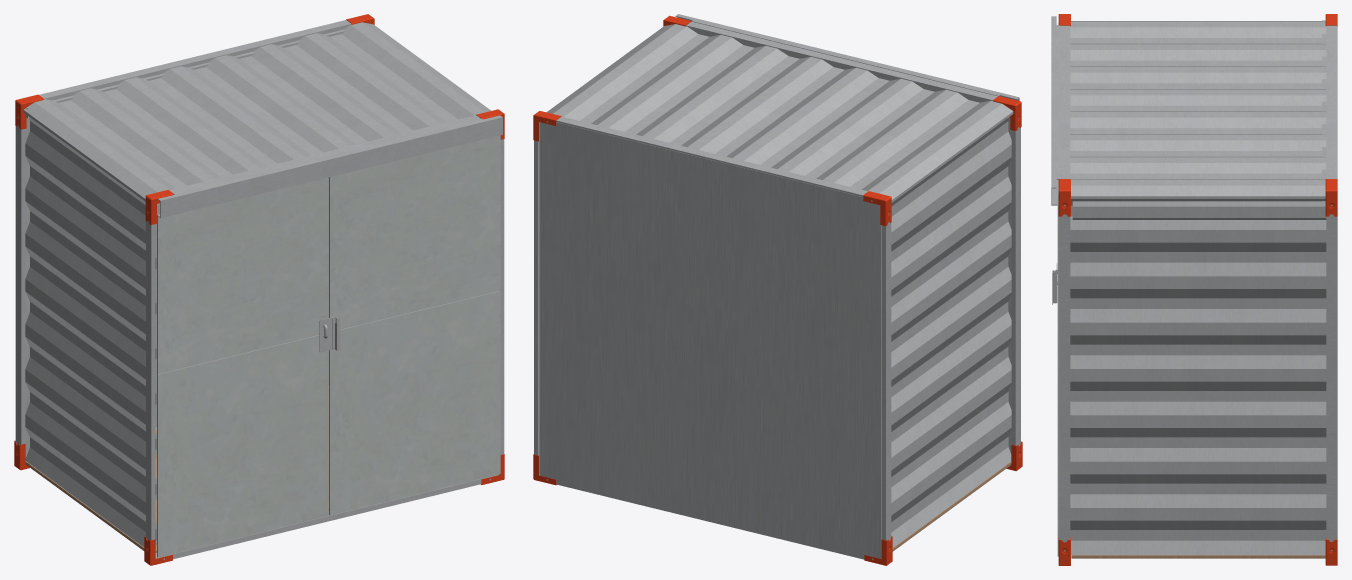
Rendered from 3M_closed.glb.
3 views of the same model, side by side, from view 1: azimuth 30°, elevation 25°; view 2: azimuth 150°, elevation 25°; view 3: azimuth 270°, elevation 25° (orthographic). The views are drawn at different scales.
Visible parts, largest first — view 1: leftSideDoorWing, rightSideDoorWing, roof, leftWall, frontRim, gutter, backRim, Cube.007, floor.001, handle; view 2: Cube.007, roof, leftWall, backRim, frontRim, gutter; view 3: rightWall, roof, frontRim, backRim, topRightMask, gutter, rightSideDoorWing, floor.001, corner, corner.001, Cube.007, Cube.003.
Boxes of the visible parts, x1,y1,x2,y2 form: leftSideDoorWing: (157, 177, 328, 557); rightSideDoorWing: (329, 135, 500, 515); roof: (23, 22, 491, 201); leftWall: (25, 117, 156, 547); frontRim: (146, 115, 504, 559); gutter: (157, 115, 502, 218); backRim: (15, 20, 351, 461); Cube.007: (25, 118, 328, 457); floor.001: (25, 388, 328, 552); handle: (320, 317, 340, 352); Cube.007: (539, 121, 881, 559); roof: (547, 24, 1013, 202); leftWall: (891, 116, 1011, 547); backRim: (534, 116, 891, 559); frontRim: (686, 21, 1020, 463); gutter: (675, 14, 1019, 100); rightWall: (1070, 199, 1326, 554); roof: (1070, 21, 1326, 198); frontRim: (1059, 25, 1070, 551); backRim: (1326, 25, 1337, 551); topRightMask: (1072, 201, 1326, 219); gutter: (1051, 16, 1059, 205); rightSideDoorWing: (1057, 205, 1059, 556); floor.001: (1071, 555, 1325, 558); corner: (1325, 179, 1337, 216); corner.001: (1058, 179, 1070, 216); Cube.007: (1337, 27, 1337, 536); Cube.003: (1322, 20, 1326, 201).
Bounding box in the file's own units: 23.17 × 22.88 × 15.81.
5 materials, 4 textured.
